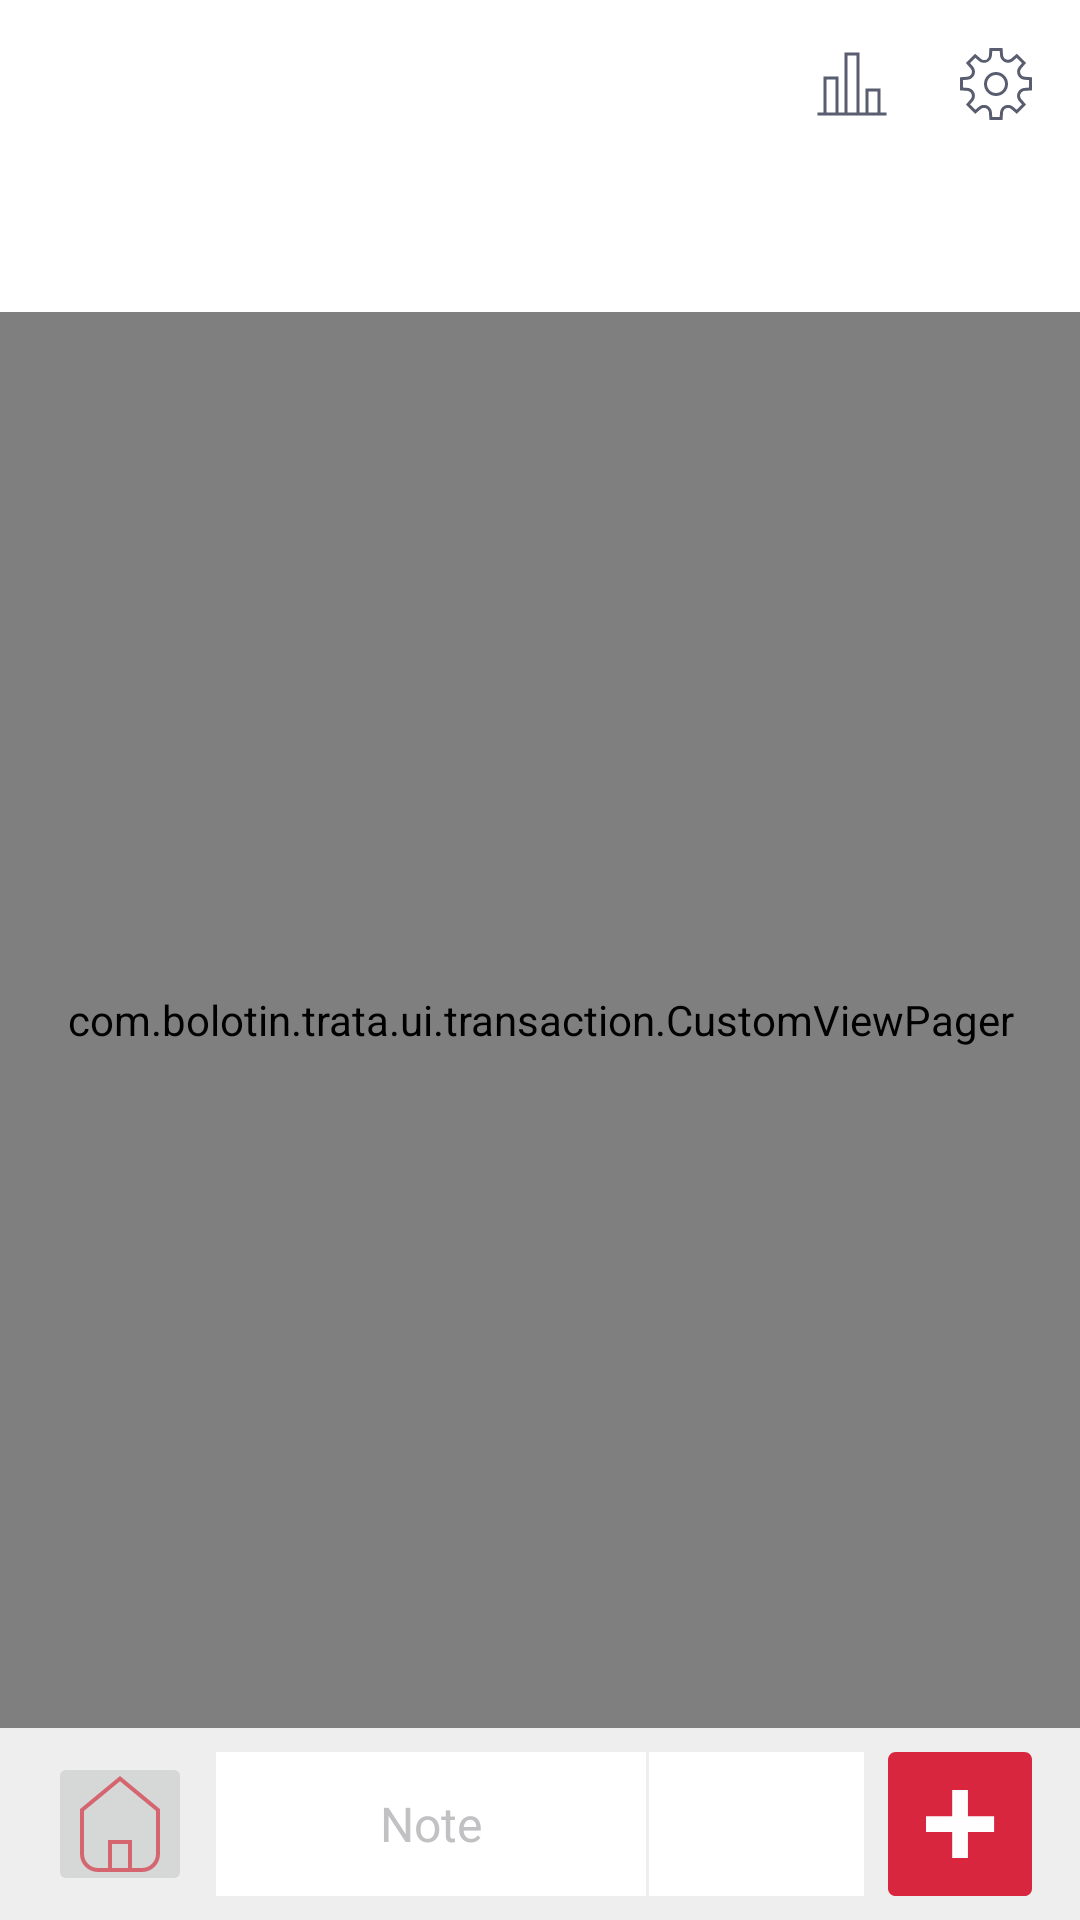

Icons on this 1080 x 1920 Android screen, each with the point to tap as point (x, y):
house: point (120, 1824)
reports: point (852, 84)
settings: point (996, 84)
